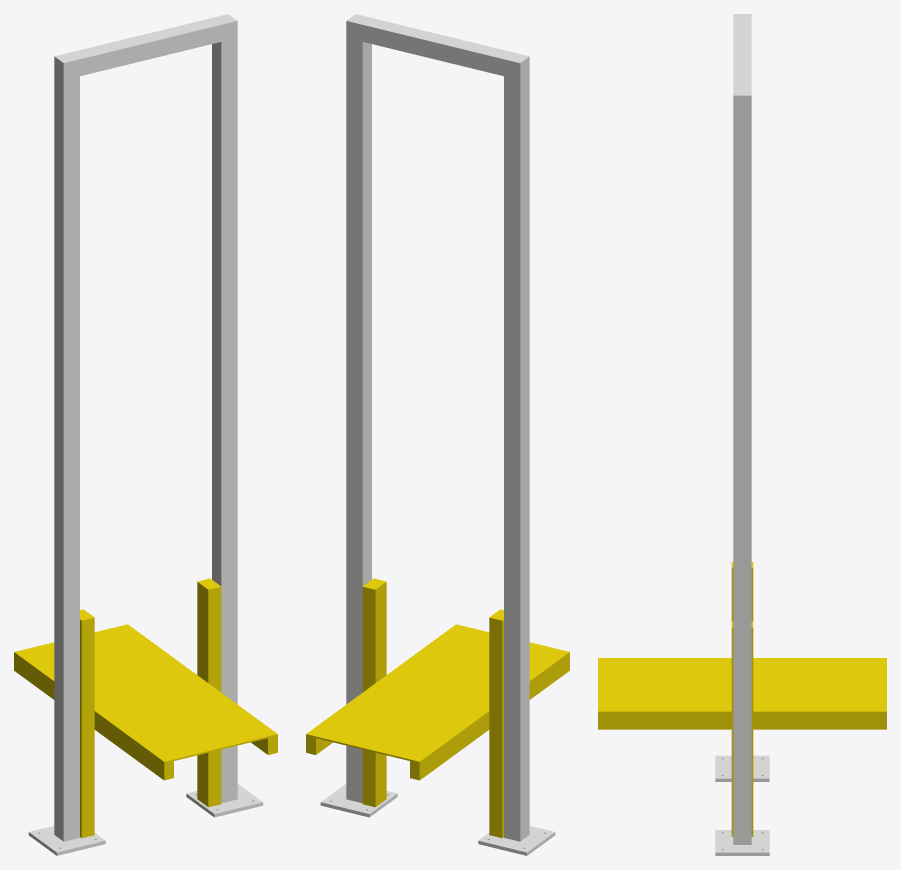
The model's file is lift-vrc.glb.
3 renders of one model, left to right at view 1: azimuth 30°, elevation 25°; view 2: azimuth 150°, elevation 25°; view 3: azimuth 270°, elevation 25°, orthographic. The views are drawn at different scales.
Parts seen in each view (by area): view 1: body, carriage; view 2: body, carriage; view 3: carriage, body.
Boxes of the visible parts, x1,y1,x2,y2 form: body: (28,14,263,855); carriage: (14,578,277,837); body: (320,14,555,855); carriage: (306,578,569,837); carriage: (598,562,886,836); body: (715,14,769,855).
Size of what is drawn, in the model's own units: 1.27 by 4.6 by 1.6.
